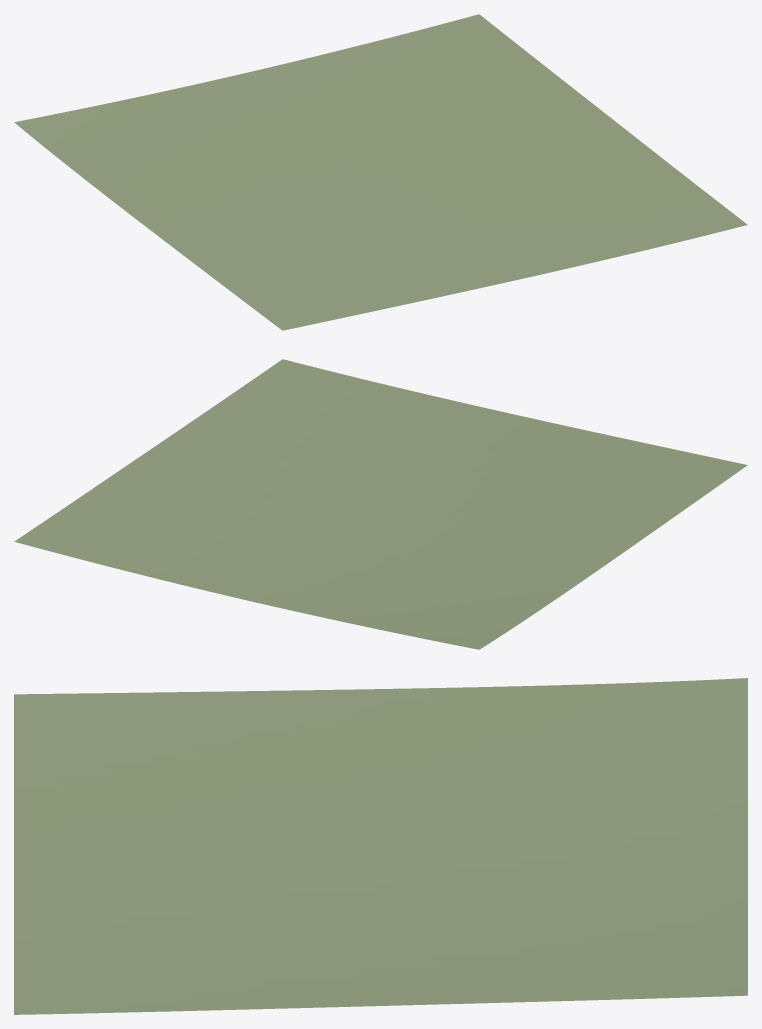
Rendered from expanse-24-24.glb.
3 views of the same model, one above another, from view 1: azimuth 30°, elevation 25°; view 2: azimuth 150°, elevation 25°; view 3: azimuth 270°, elevation 25° (orthographic). The views are drawn at different scales.
Visible parts, largest first — view 1: expanse-24-24; view 2: expanse-24-24; view 3: expanse-24-24.
Boxes of the visible parts, x1,y1,x2,y2 form: expanse-24-24: (14, 14, 747, 330); expanse-24-24: (14, 359, 747, 649); expanse-24-24: (14, 678, 747, 1014).
Size of the model in its own units: 256 by 10.5 by 256.
